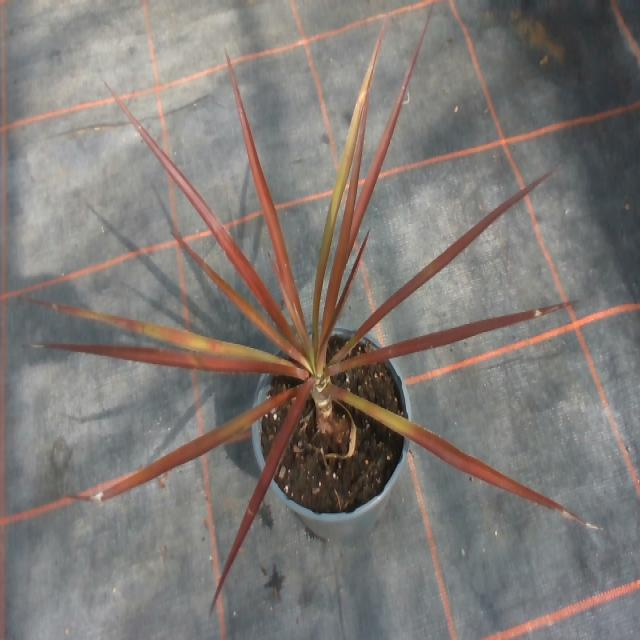Yucca-aloifolia: (108, 85, 293, 336), (331, 169, 556, 363), (329, 385, 597, 528), (70, 392, 294, 499), (225, 51, 307, 341), (211, 380, 312, 608), (313, 35, 381, 345), (349, 25, 425, 248), (331, 303, 569, 373), (30, 299, 283, 361), (174, 235, 301, 357), (323, 97, 367, 337), (29, 344, 308, 376), (330, 232, 368, 331)
